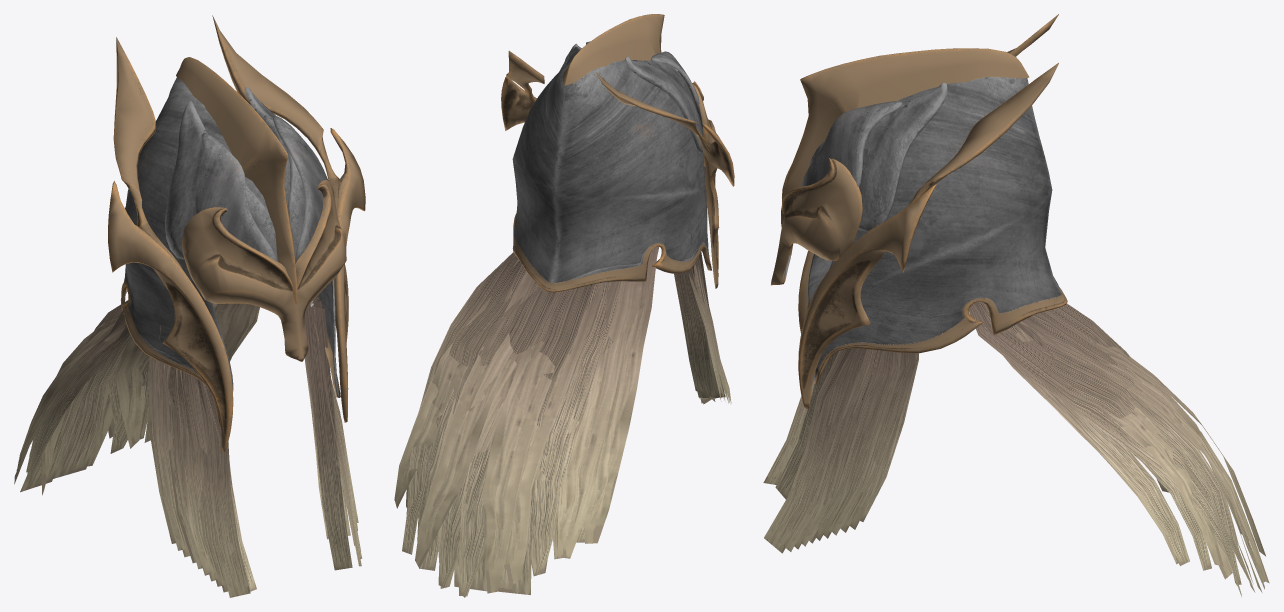
Rendered from mkwd_inf1_t4_helmet_silver_hc.fbx.
3 renders of one model, left to right at view 1: azimuth 30°, elevation 25°; view 2: azimuth 150°, elevation 25°; view 3: azimuth 270°, elevation 25°, orthographic. The views are drawn at different scales.
Parts seen in each view (by area): view 1: mkwd_inf1_t4_helmet_silver_hc.lod0.1, mkwd_inf1_t4_helmet_silver_hc.lod0.0; view 2: mkwd_inf1_t4_helmet_silver_hc.lod0.0, mkwd_inf1_t4_helmet_silver_hc.lod0.1; view 3: mkwd_inf1_t4_helmet_silver_hc.lod0.1, mkwd_inf1_t4_helmet_silver_hc.lod0.0.
Boxes of the visible parts, x1=… form: mkwd_inf1_t4_helmet_silver_hc.lod0.1: x1=108, y1=15, x2=365, y2=452; mkwd_inf1_t4_helmet_silver_hc.lod0.0: x1=14, y1=297, x2=362, y2=597; mkwd_inf1_t4_helmet_silver_hc.lod0.0: x1=394, y1=233, x2=731, y2=597; mkwd_inf1_t4_helmet_silver_hc.lod0.1: x1=501, y1=14, x2=734, y2=292; mkwd_inf1_t4_helmet_silver_hc.lod0.1: x1=771, y1=14, x2=1067, y2=408; mkwd_inf1_t4_helmet_silver_hc.lod0.0: x1=763, y1=302, x2=1269, y2=596.
Size of the model in its own units: 0.2873 by 0.4703 by 0.558.
2 materials, 2 textured.
